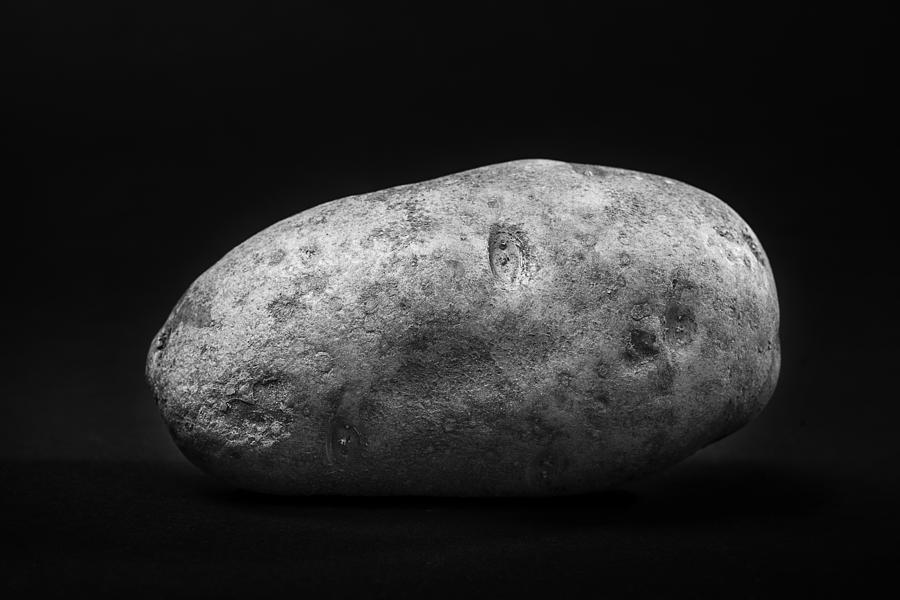potato rotten: (145, 143, 797, 488)
